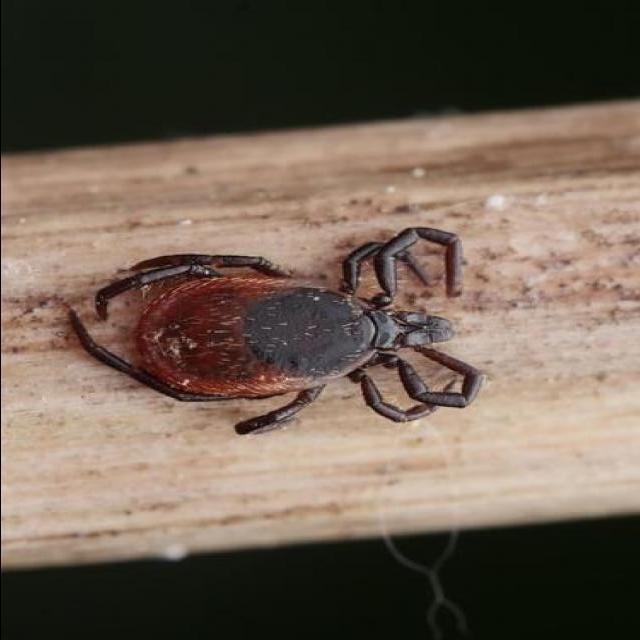Ixodes Ricinus-F: (65, 227, 481, 436)
